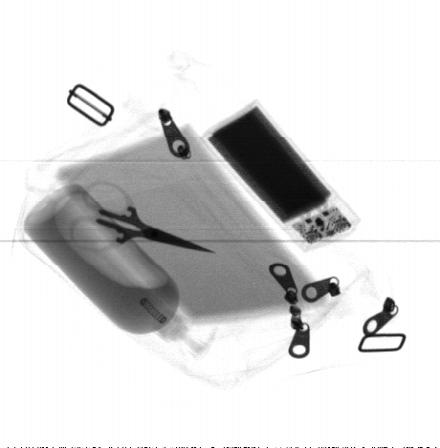Powerbank: (194, 99, 364, 256)
Scissors: (67, 181, 223, 255)
